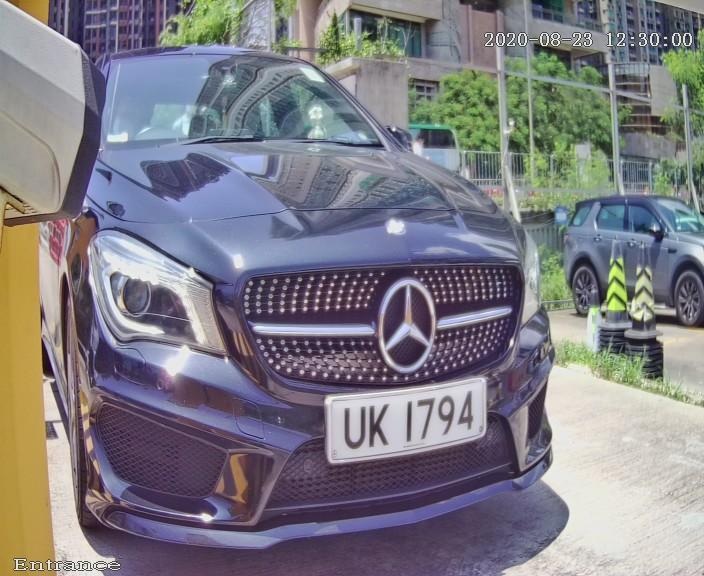Car: (26, 8, 598, 576)
License Plate: (318, 373, 491, 469)
